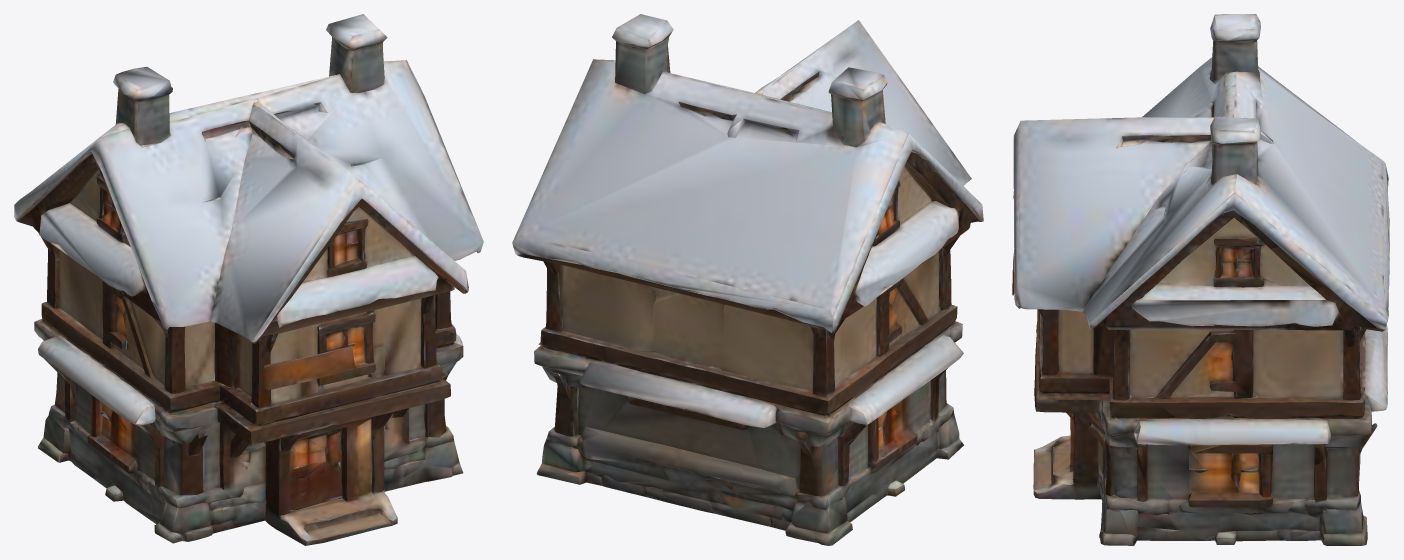
The model's file is inn.glb.
3 views of the same model, side by side, from view 1: azimuth 30°, elevation 25°; view 2: azimuth 150°, elevation 25°; view 3: azimuth 270°, elevation 25° (orthographic).
Parts seen in each view (by area): view 1: Mesh; view 2: Mesh; view 3: Mesh.
Part boxes in pixels (x1=…): Mesh: x1=14, y1=14, x2=483, y2=545; Mesh: x1=512, y1=14, x2=983, y2=545; Mesh: x1=1012, y1=14, x2=1389, y2=545.
Size of the model in its own units: 1.6 by 1.9 by 1.6.
1 material, 1 textured.
